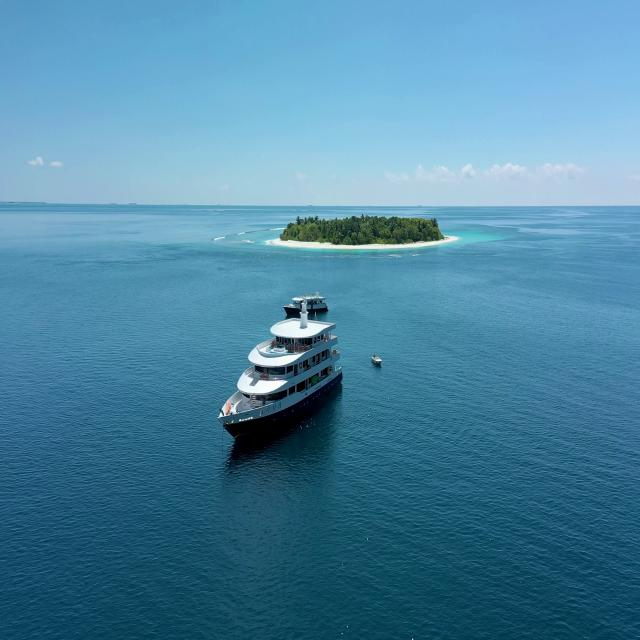ship: (220, 311, 341, 442)
